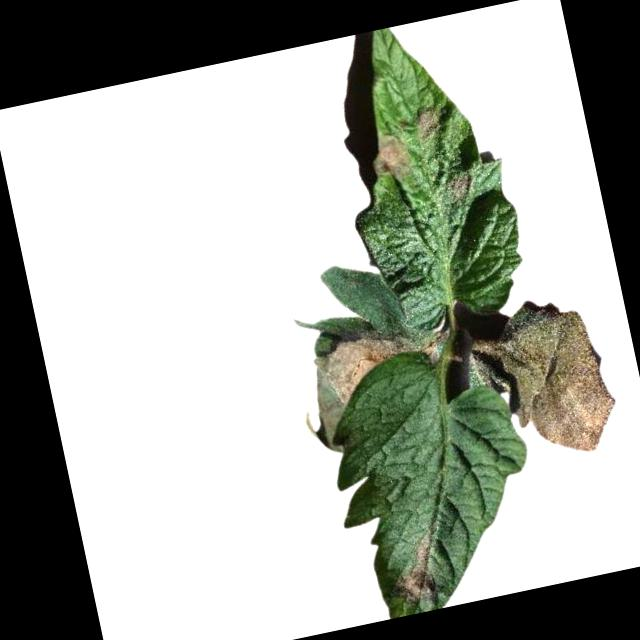Late_blight: (489, 290, 622, 465), (305, 316, 454, 408), (382, 530, 447, 606), (369, 129, 413, 181), (413, 105, 443, 137), (445, 167, 476, 197)
